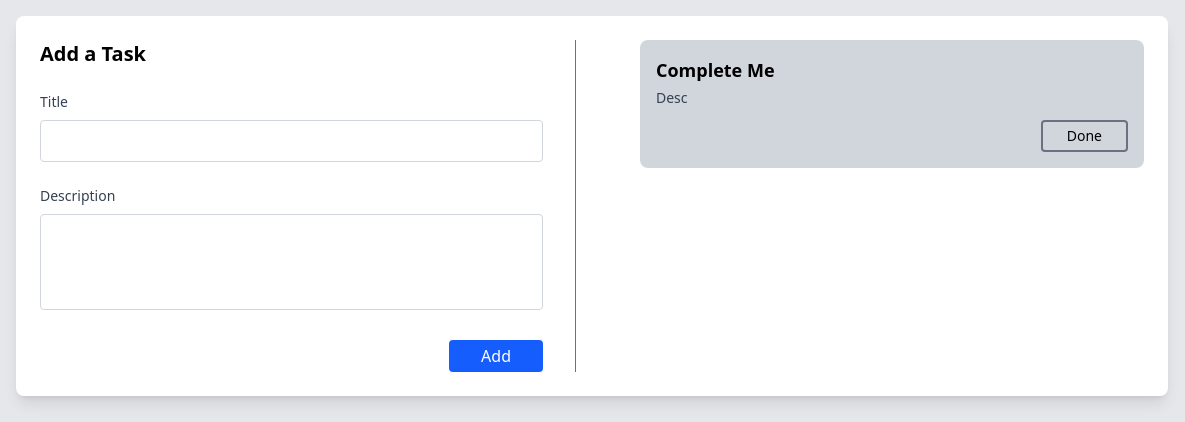
Todo App End-to-End › completes a task
The width and height of the screenshot is (1185, 422).
Click the button "Done".
click(1084, 136)  # box [1041,120,1128,152]
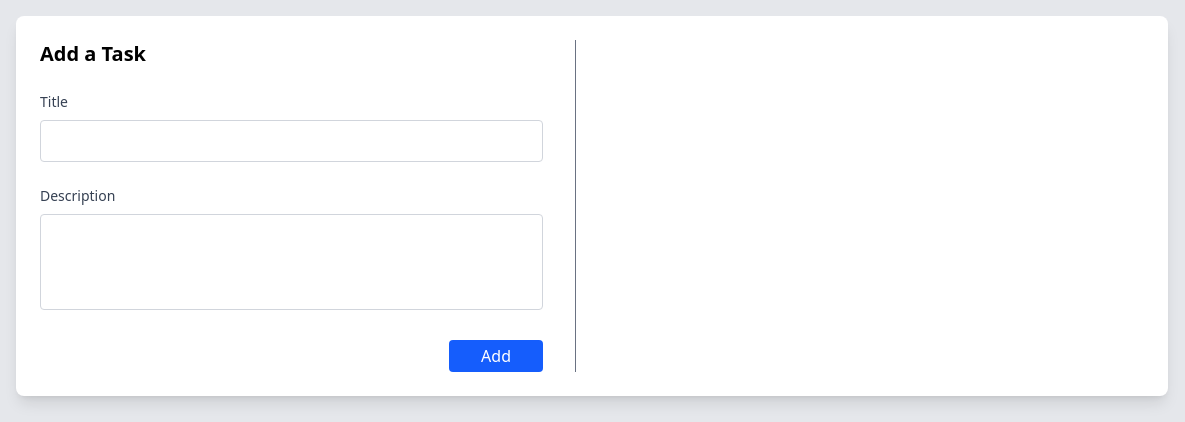
Result: the heading "Complete Me" is gone
